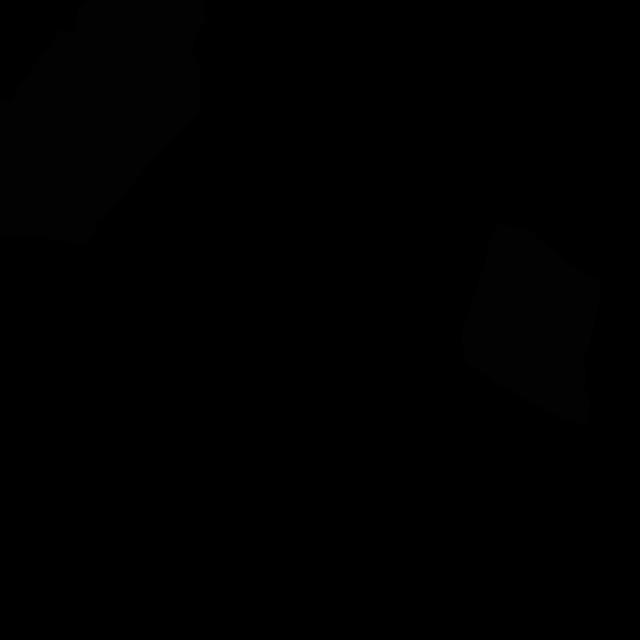cardboard: (0, 0, 208, 246), (460, 224, 601, 423)
